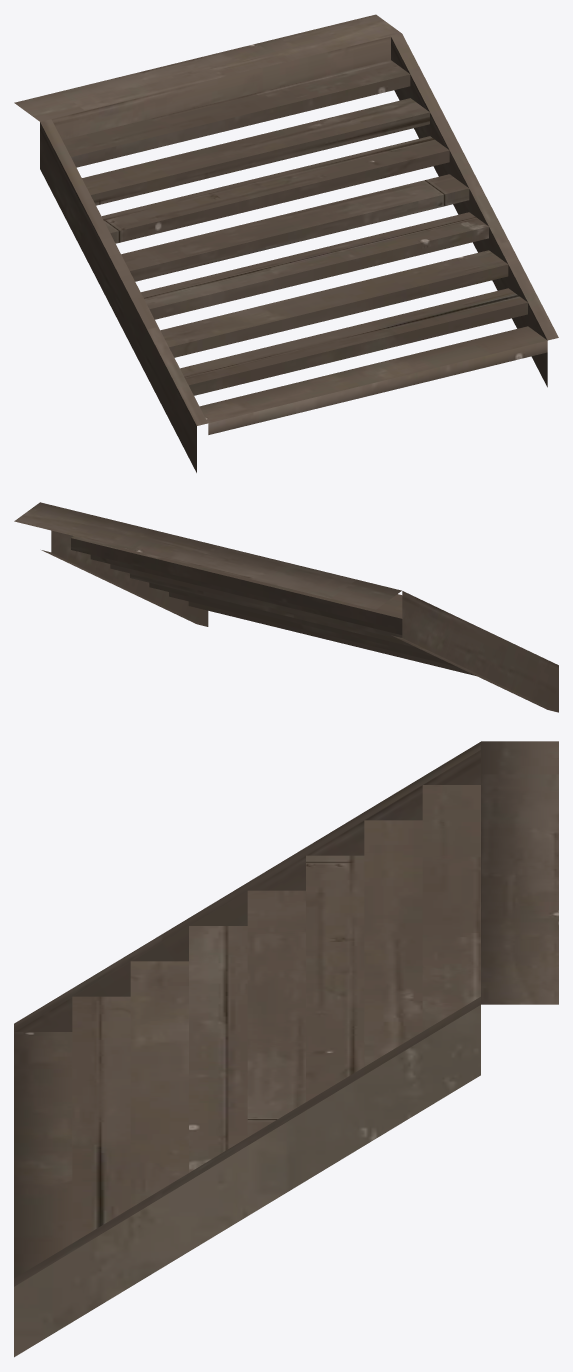
3 views of the same model, one above another, from view 1: azimuth 30°, elevation 25°; view 2: azimuth 150°, elevation 25°; view 3: azimuth 270°, elevation 25° (orthographic). The views are drawn at different scales.
Visible parts, largest first — view 1: body0_model0_lod0_mesh0; view 2: body0_model0_lod0_mesh0; view 3: body0_model0_lod0_mesh0, body0_model0_lod0_mesh1.
Part boxes in pixels (x1,y1,x2,y2): body0_model0_lod0_mesh0: (14, 14, 558, 472); body0_model0_lod0_mesh0: (14, 502, 558, 712); body0_model0_lod0_mesh0: (14, 741, 558, 1286); body0_model0_lod0_mesh1: (14, 1005, 480, 1357).
Size of the model in its own units: 128 by 80 by 112.
2 materials, 2 textured.
